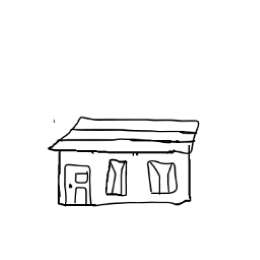door: (62, 161, 94, 210)
open_window: (101, 156, 132, 201), (144, 159, 180, 197)
roof: (43, 107, 209, 158)
small_house: (3, 3, 260, 260)
wall: (54, 143, 195, 209)
